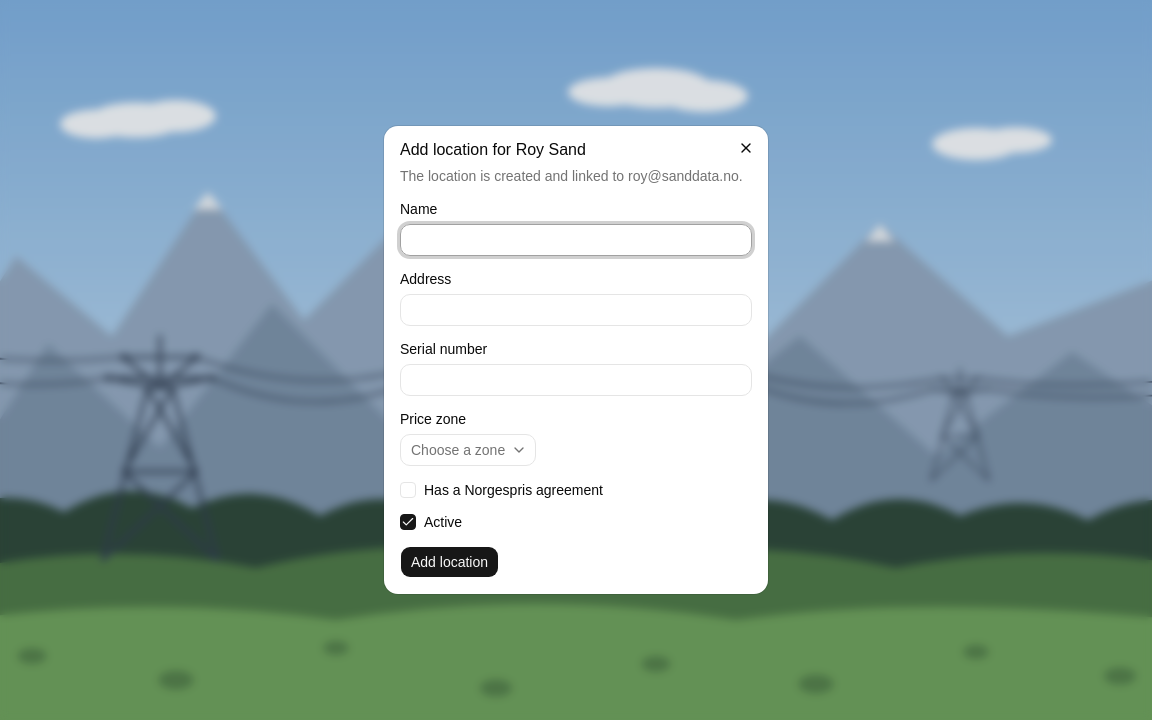
AddLocationDialog › shows API validation errors on the matching fields
Type "Cabin" into the field labelled "Name".
click(576, 240); type("Cabin")  # box left=400, top=224, right=752, bottom=256
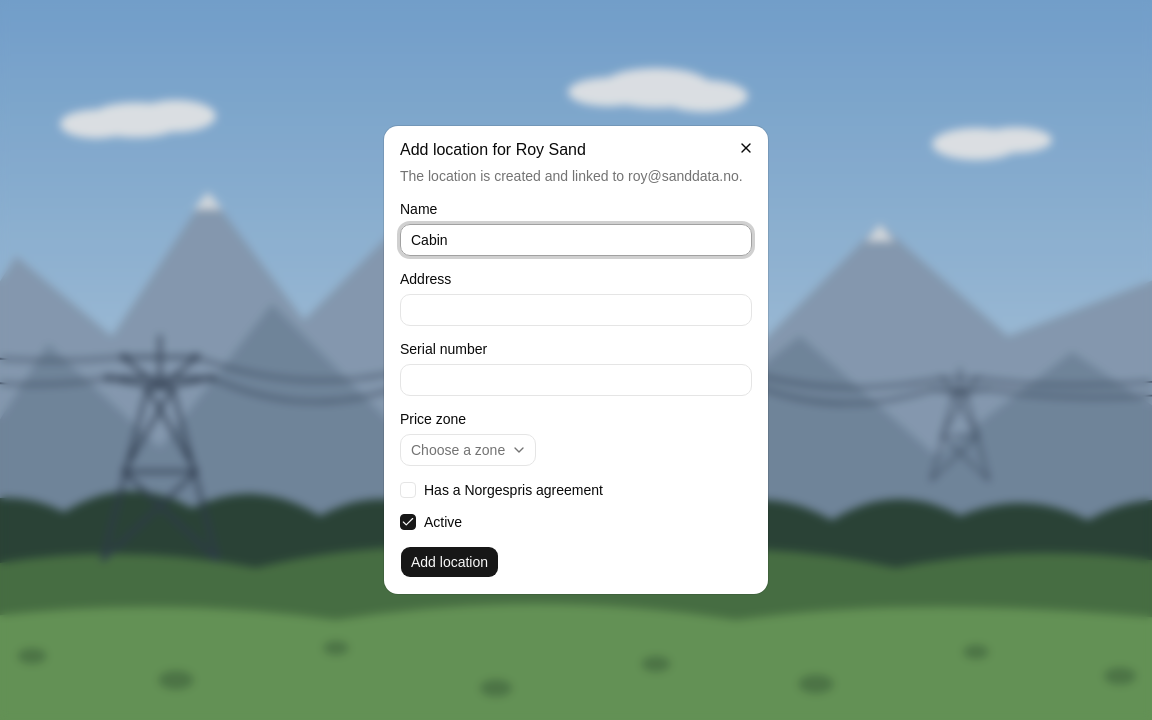
Type "Hyttevegen 1" into the field labelled "Address".
click(576, 310); type("Hyttevegen 1")  # box left=400, top=294, right=752, bottom=326
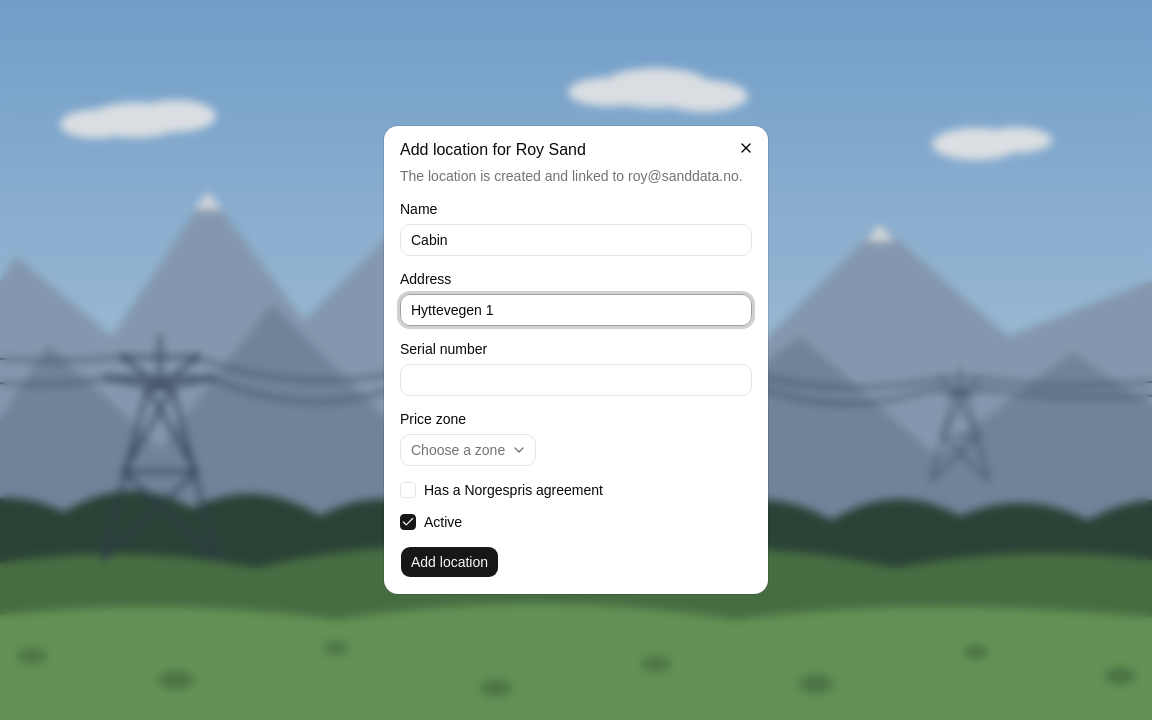
Type "SN-1" into the field labelled "Serial number".
click(576, 380); type("SN-1")  # box left=400, top=364, right=752, bottom=396
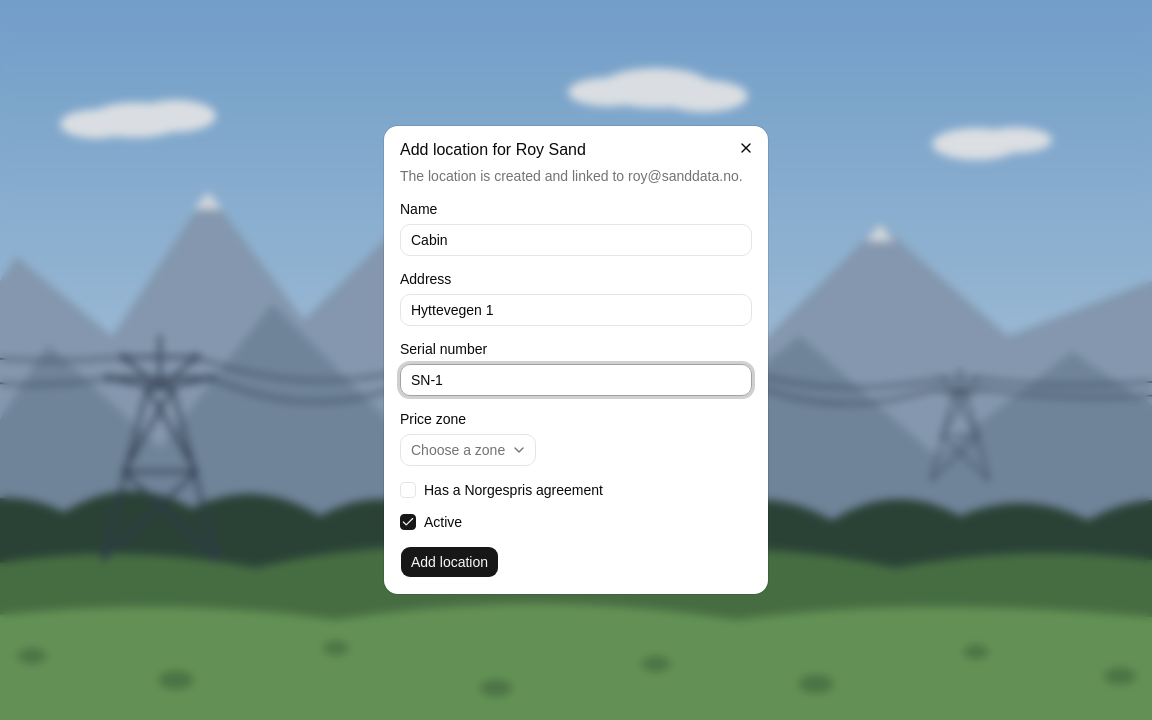
Click the dropdown named "Price zone".
click(468, 450)  # box left=400, top=434, right=536, bottom=466
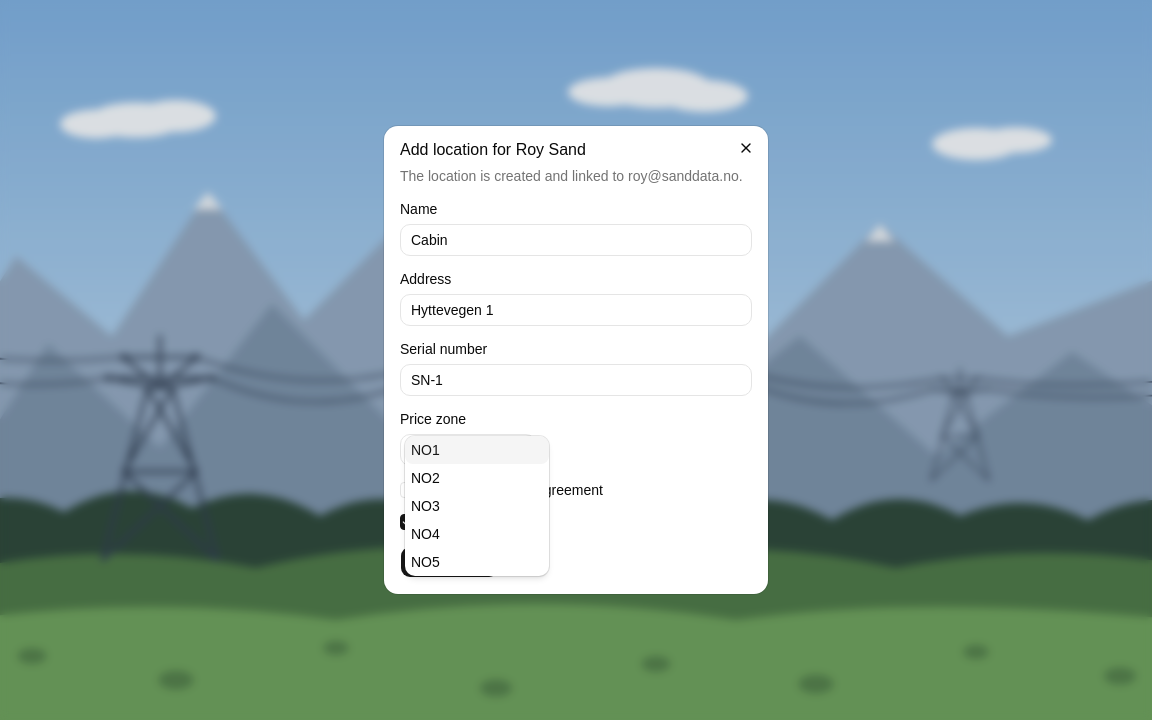
Click the option "NO3".
click(425, 506)  # box left=411, top=498, right=440, bottom=514
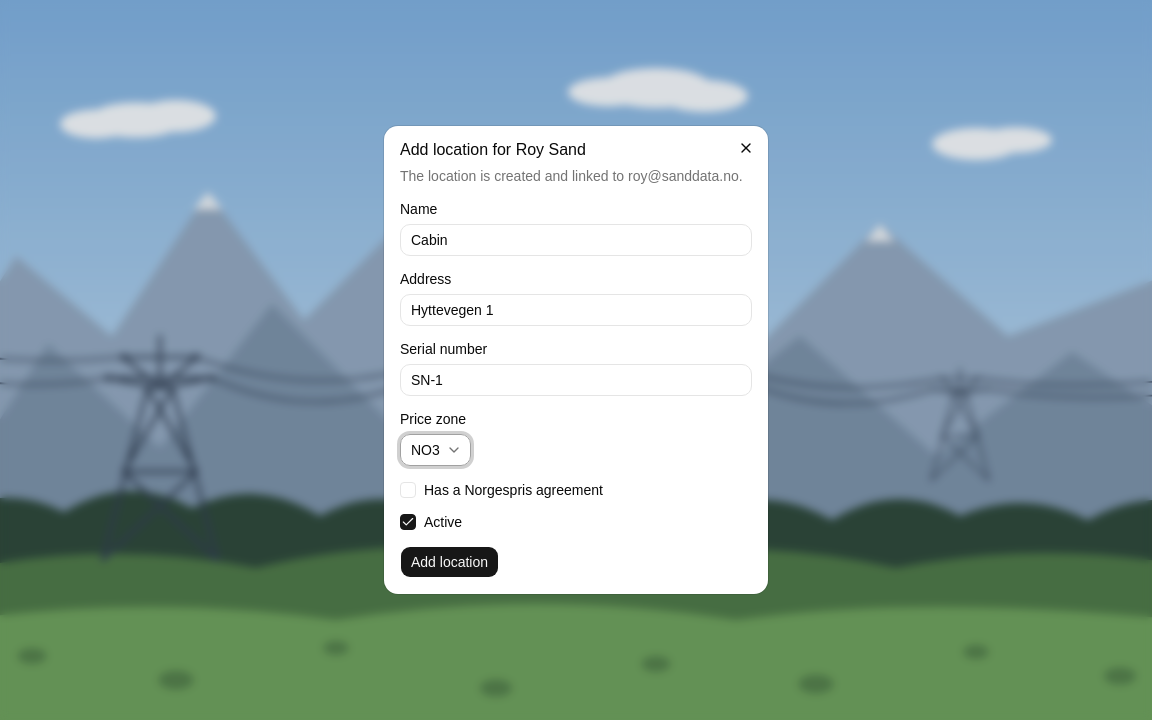
Click the button "Add location".
click(450, 562)  # box left=400, top=546, right=499, bottom=578
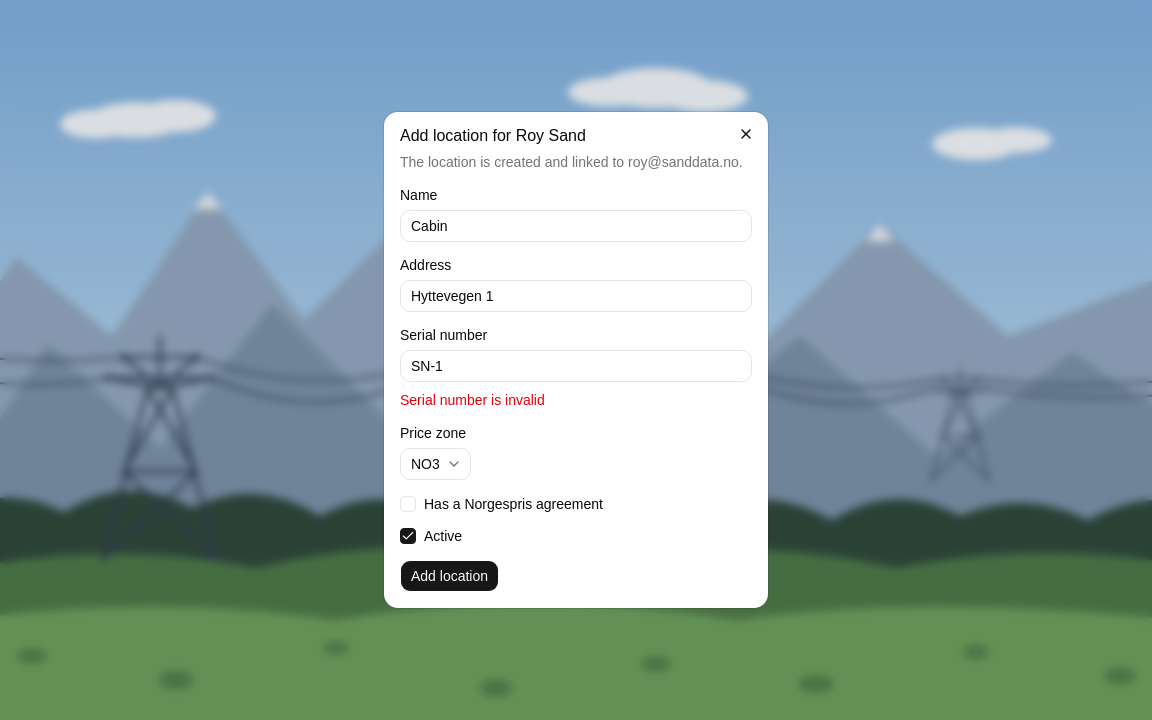
Expected: the text "Serial number is invalid" is shown, left=400, top=392, right=545, bottom=408
